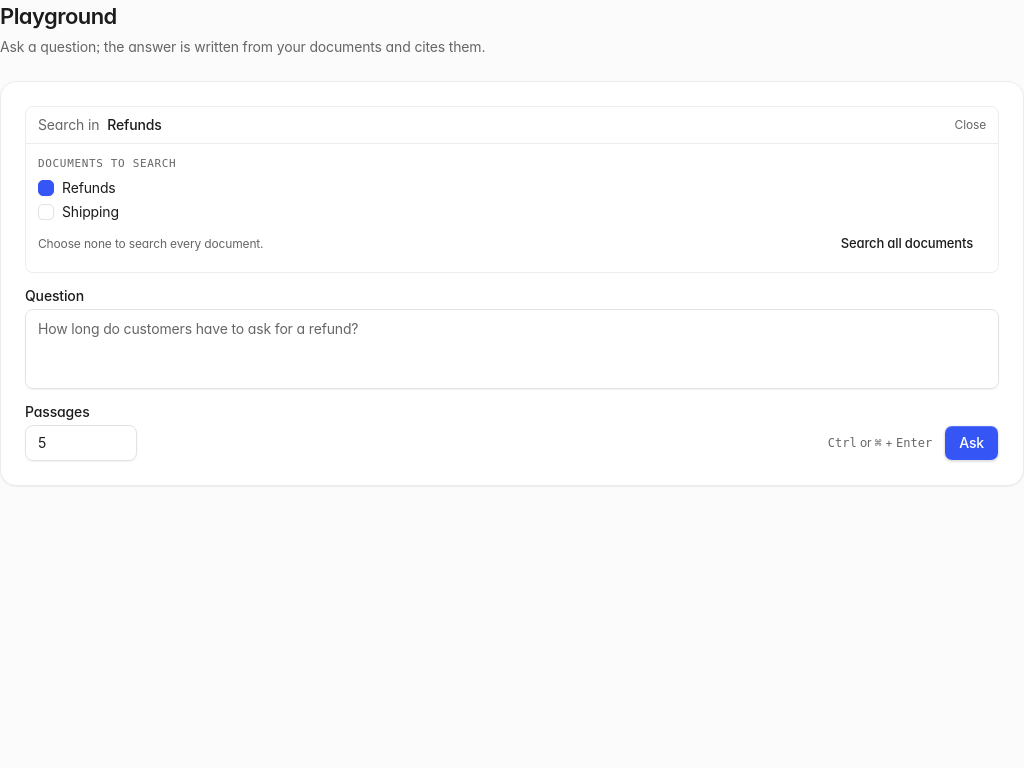
PlaygroundContainer (mocked API) › arriving from a document's page searches only that document
This screenshot has width=1024, height=768.
Expected: the text "Refunds" next to "Search in" is shown, [107,116,162,133]
Type "How long?" into the text box labelled "Question" at {"x": 512, "y": 349}, box [25,309,999,389]
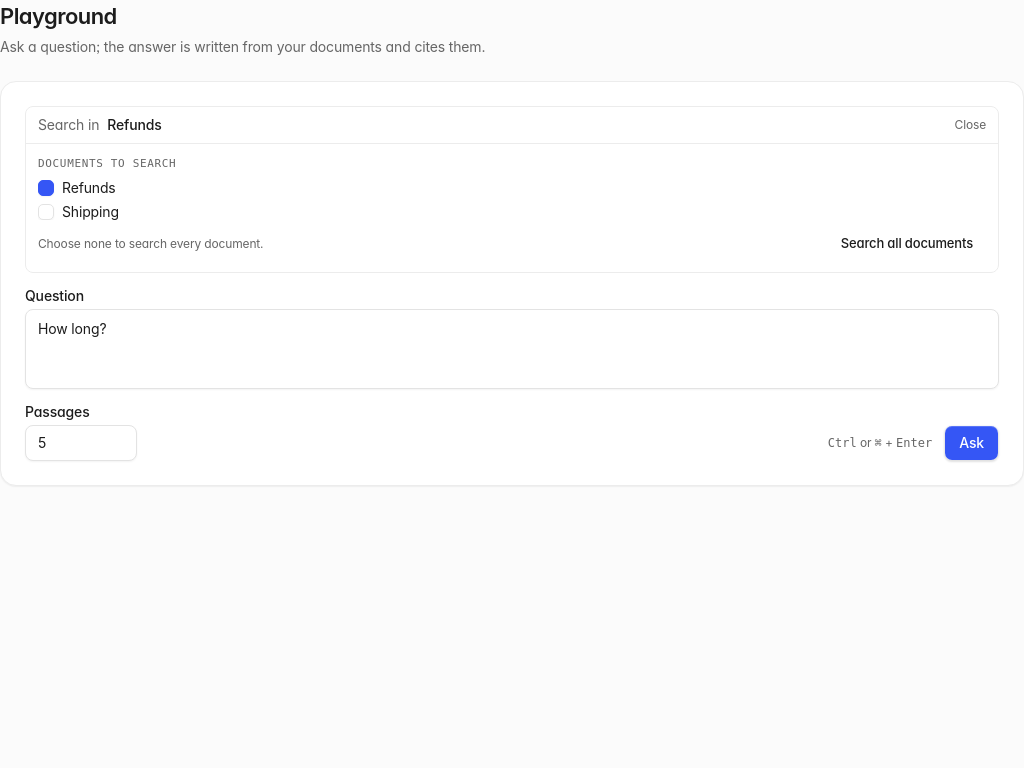
Replace the text in the number field labelled "Passages" with "3" at {"x": 81, "y": 443}, box [25,425,137,461]
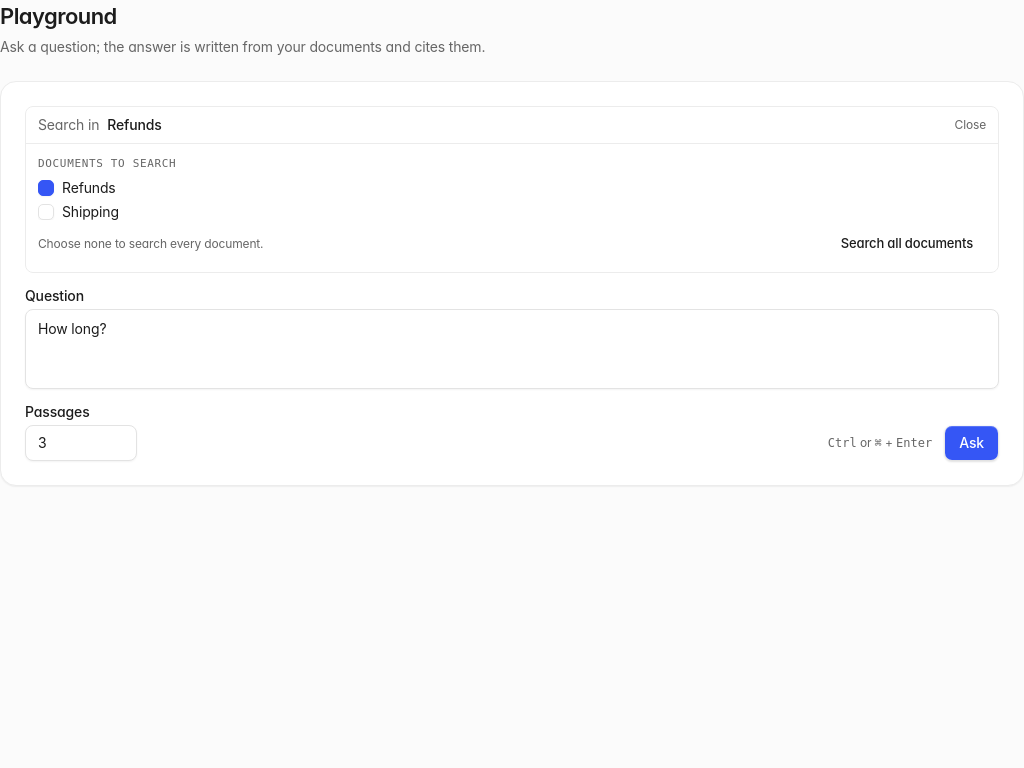
Click the button "Ask" at {"x": 972, "y": 443}, box [944,425,999,461]
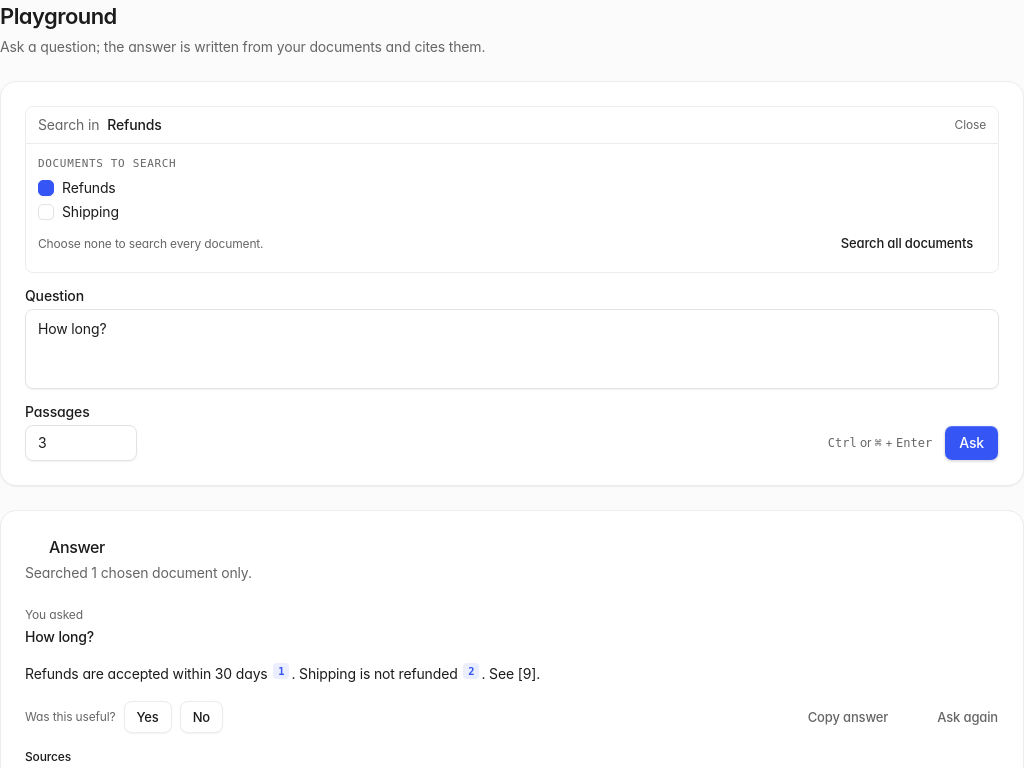
Now the text "Searched 1 chosen document only." is shown, box [25,564,252,581]
